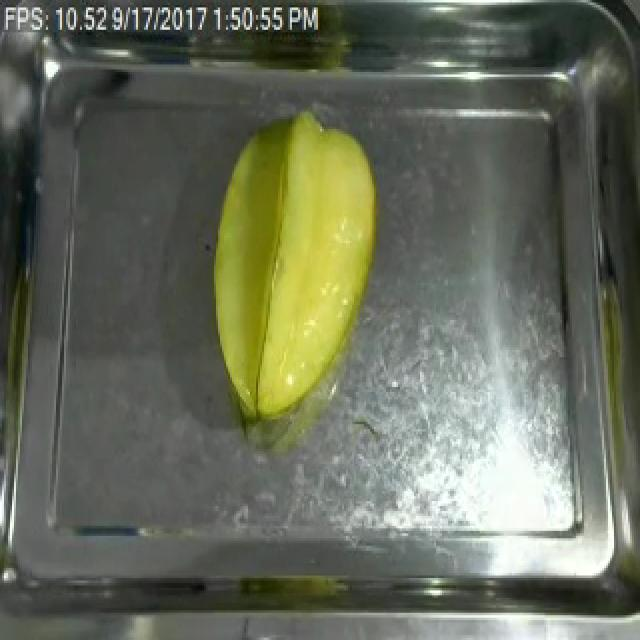fruit: (198, 102, 392, 434)
